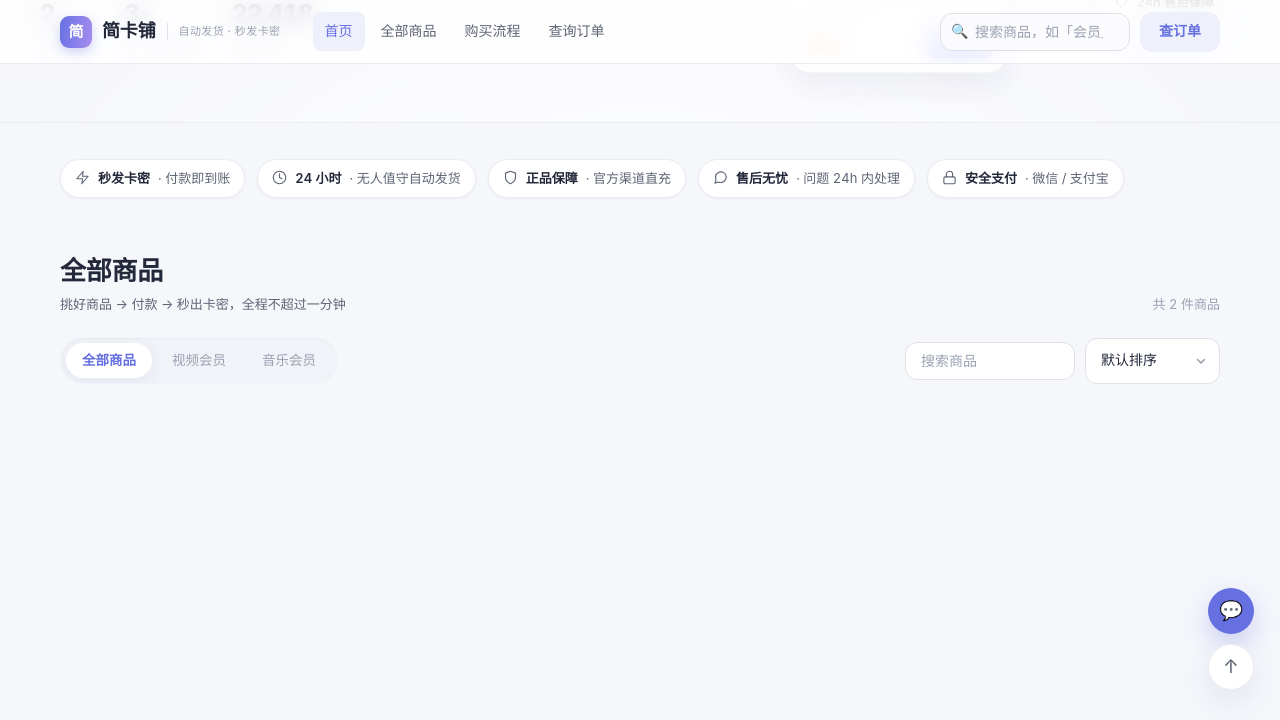
Test case: 前台商城 › 分类标签会过滤商品
The width and height of the screenshot is (1280, 720).
(page scrolled)
Click the button "音乐会员" at [289, 361], box [246,343,332,378]
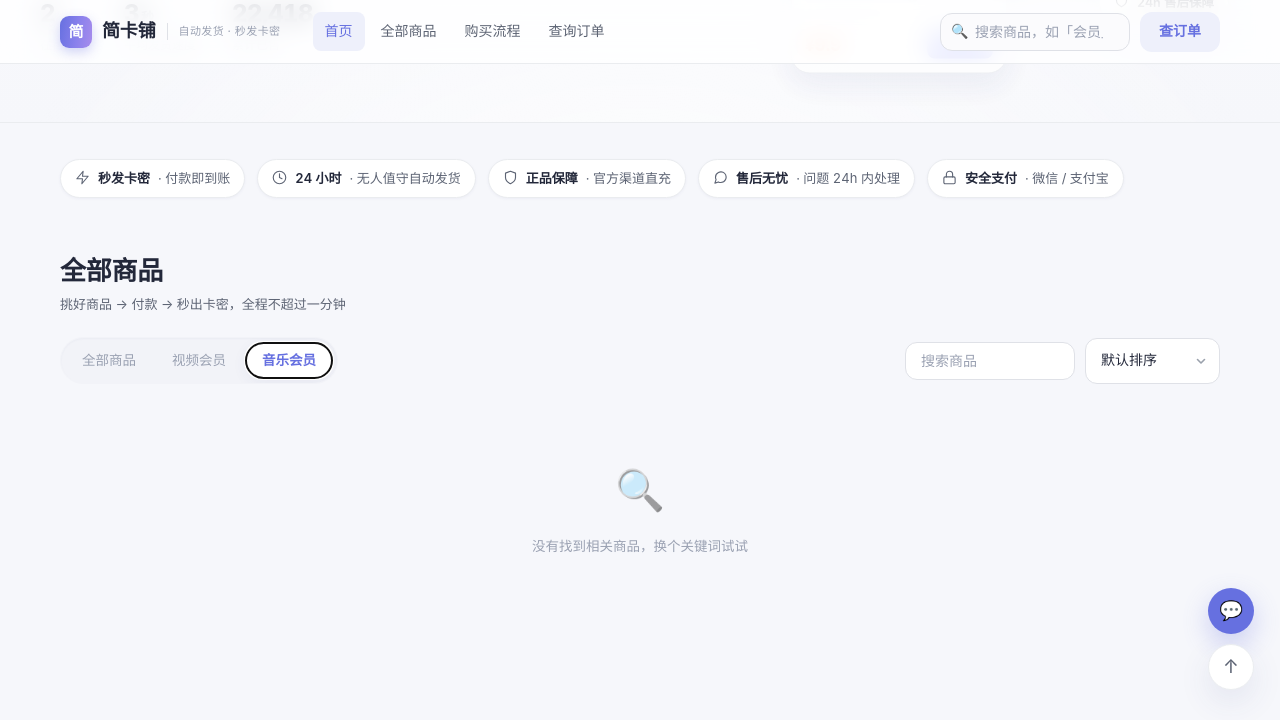
Result: the text "没有找到相关商品，换个关键词试试" is shown at [532,538,748,554]
